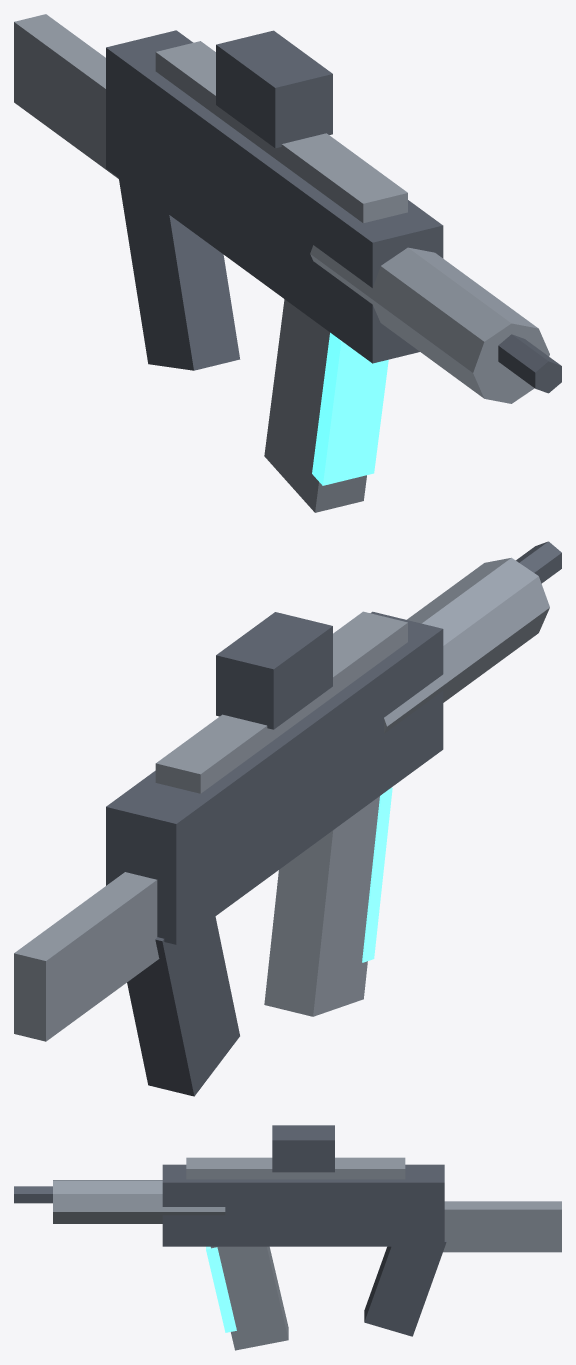
The model's file is weapon_smg.glb.
3 renders of one model, top to bottom at view 1: azimuth 30°, elevation 25°; view 2: azimuth 150°, elevation 25°; view 3: azimuth 270°, elevation 25°, orthographic. The views are drawn at different scales.
Parts seen in each view (by area): view 1: Weapon_SMG; view 2: Weapon_SMG; view 3: Weapon_SMG.
Part boxes in pixels (box(x1,y1,x2,y2)): Weapon_SMG: box(14, 14, 561, 512); Weapon_SMG: box(14, 541, 561, 1096); Weapon_SMG: box(14, 1125, 561, 1350).
Bounding box in the file's own units: 0.06 × 0.298 × 0.7.
